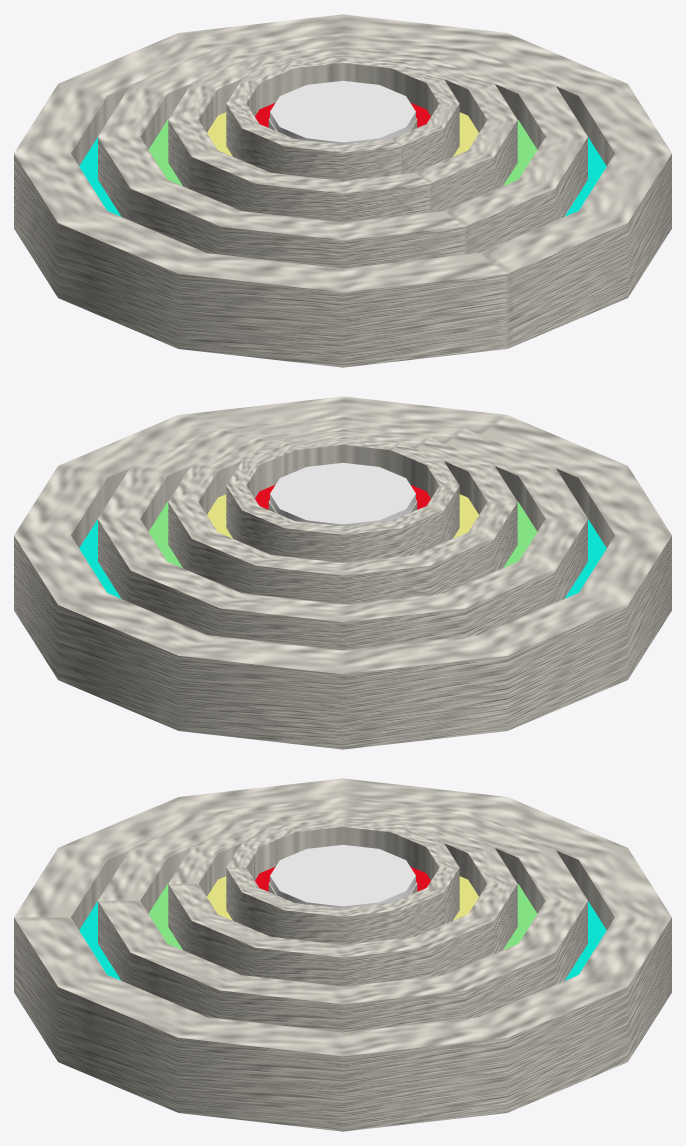
File: f_finaldoorswitch.fbx
3 views of the same model, one above another, from view 1: azimuth 30°, elevation 25°; view 2: azimuth 150°, elevation 25°; view 3: azimuth 270°, elevation 25° (orthographic).
Visible parts, largest first — view 1: f_finaldoorswitchblue, f_finaldoorswitchgreen, f_finaldoorswitchyellow, f_finaldoorswitchred, f_finaldoorswitchwhiteactived; view 2: f_finaldoorswitchblue, f_finaldoorswitchgreen, f_finaldoorswitchyellow, f_finaldoorswitchred, f_finaldoorswitchwhiteactived; view 3: f_finaldoorswitchblue, f_finaldoorswitchgreen, f_finaldoorswitchyellow, f_finaldoorswitchred, f_finaldoorswitchwhiteactived.
Boxes of the visible parts, box(x1,y1,x2,y2) form: f_finaldoorswitchblue: box(14, 14, 671, 367); f_finaldoorswitchgreen: box(98, 33, 587, 268); f_finaldoorswitchyellow: box(168, 46, 517, 222); f_finaldoorswitchred: box(226, 54, 459, 180); f_finaldoorswitchwhiteactived: box(270, 81, 415, 144); f_finaldoorswitchblue: box(14, 396, 671, 749); f_finaldoorswitchgreen: box(98, 415, 587, 650); f_finaldoorswitchyellow: box(168, 428, 517, 604); f_finaldoorswitchred: box(226, 436, 459, 562); f_finaldoorswitchwhiteactived: box(270, 463, 415, 526); f_finaldoorswitchblue: box(14, 778, 671, 1131); f_finaldoorswitchgreen: box(98, 797, 587, 1032); f_finaldoorswitchyellow: box(168, 810, 517, 986); f_finaldoorswitchred: box(226, 818, 459, 944); f_finaldoorswitchwhiteactived: box(270, 845, 415, 908).
Size of the model in its own units: 37.06 by 7.8 by 37.06.
Materials: 7 (7 with a texture image).
